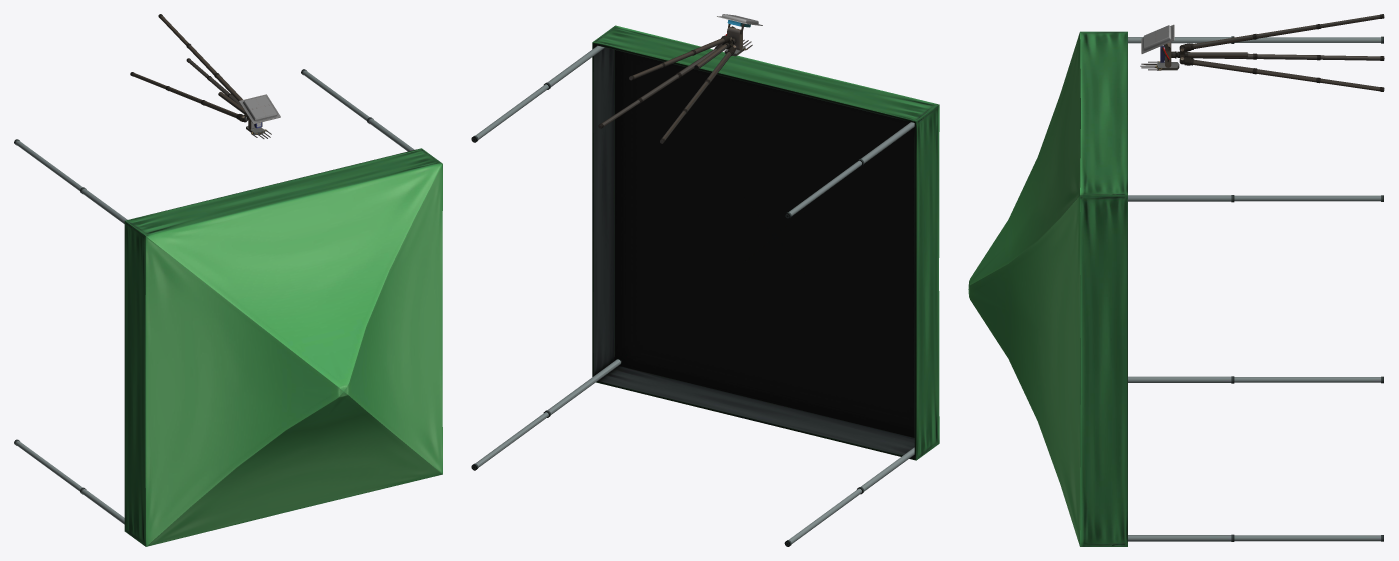
Rendered from base_station.glb.
The picture shows the model from 3 angles, left to right: view 1: azimuth 30°, elevation 25°; view 2: azimuth 150°, elevation 25°; view 3: azimuth 270°, elevation 25°; orthographic projection. The views are drawn at different scales.
Visible parts, largest first — view 1: geometry_0, geometry_1; view 2: geometry_0, geometry_1; view 3: geometry_0, geometry_1.
Part boxes in pixels (bbox=[...]): geometry_0: bbox=[14, 69, 442, 546]; geometry_1: bbox=[130, 14, 280, 138]; geometry_0: bbox=[471, 25, 939, 546]; geometry_1: bbox=[598, 14, 762, 143]; geometry_0: bbox=[968, 31, 1383, 546]; geometry_1: bbox=[1140, 14, 1384, 91].
Bounding box in the file's own units: 3 × 3.85 × 3.22.
Materials: 2 (2 with a texture image).
